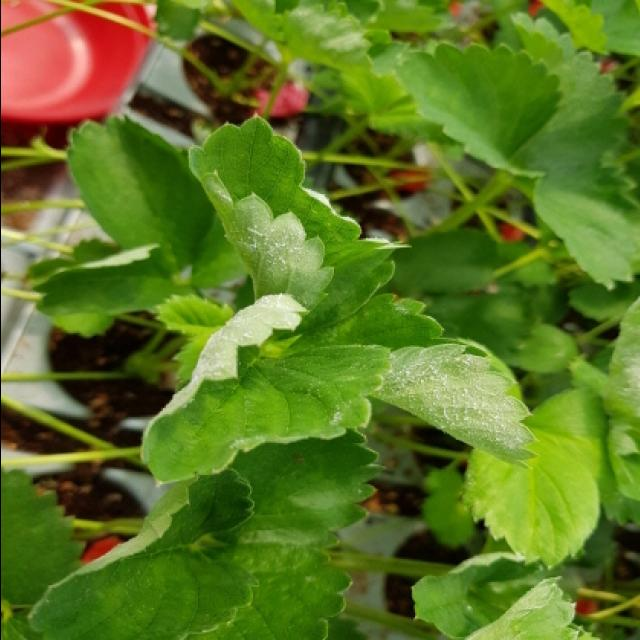Powdery Mildew Leaf: (187, 112, 413, 345), (140, 293, 391, 489), (283, 293, 538, 471), (410, 550, 540, 638), (605, 292, 640, 419)
